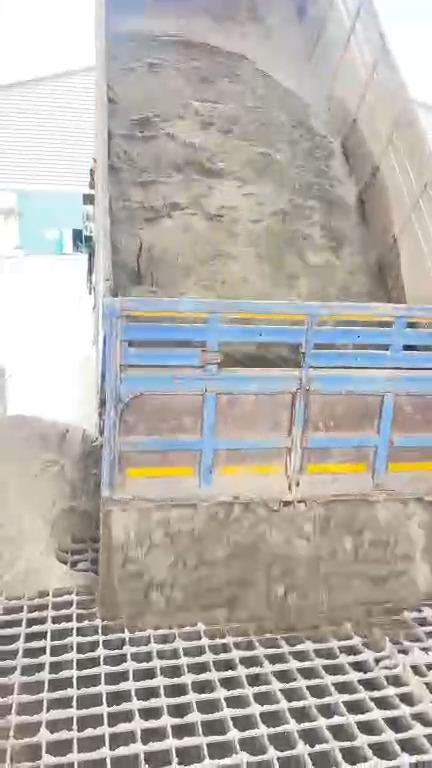sand: (109, 32, 388, 300), (99, 499, 431, 631), (0, 416, 98, 593)
